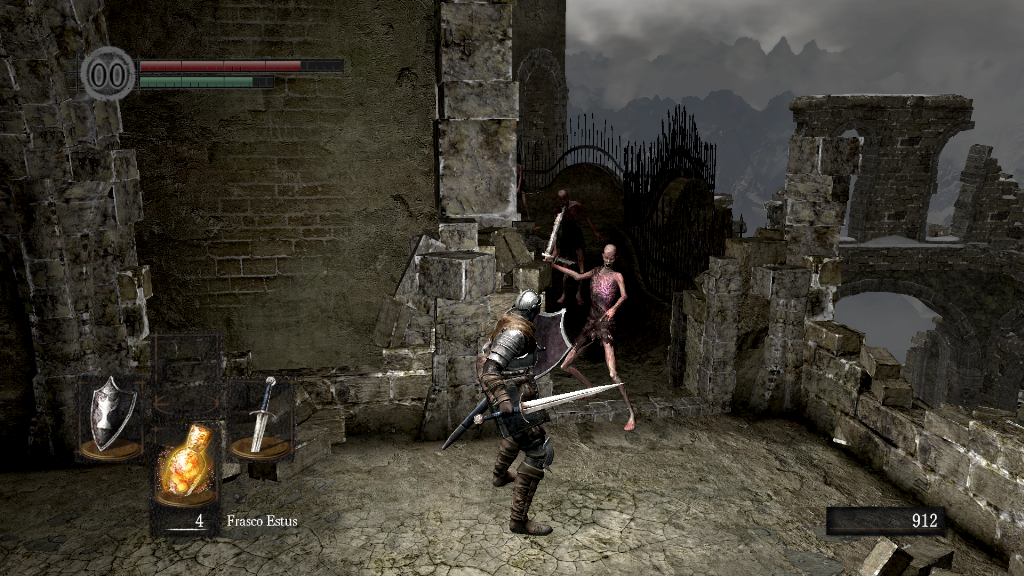health: (138, 58, 343, 71)
hollow: (543, 206, 641, 430), (552, 190, 601, 306), (515, 158, 535, 221)
humanity: (80, 45, 136, 102)
player: (444, 288, 626, 537)
souls: (825, 506, 945, 536)
stamina: (138, 74, 274, 88)
